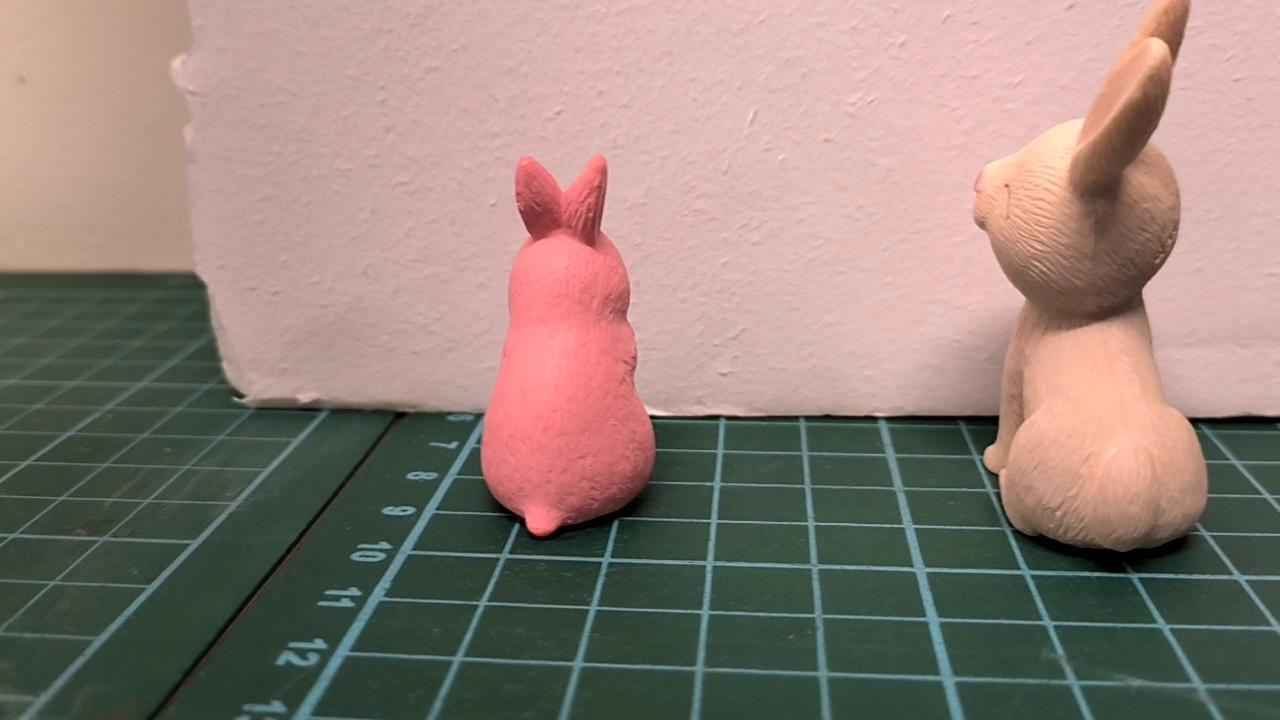pet: (972, 0, 1192, 554), (482, 155, 655, 535)
